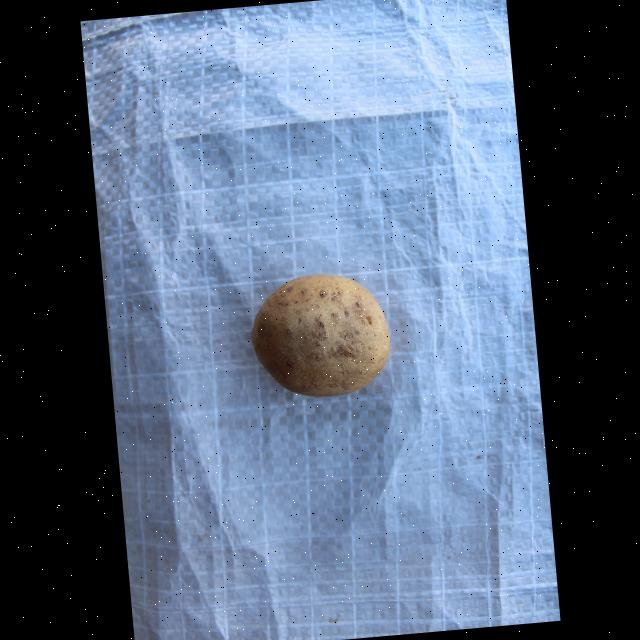Diseased-fungal potato: (240, 260, 402, 406)
